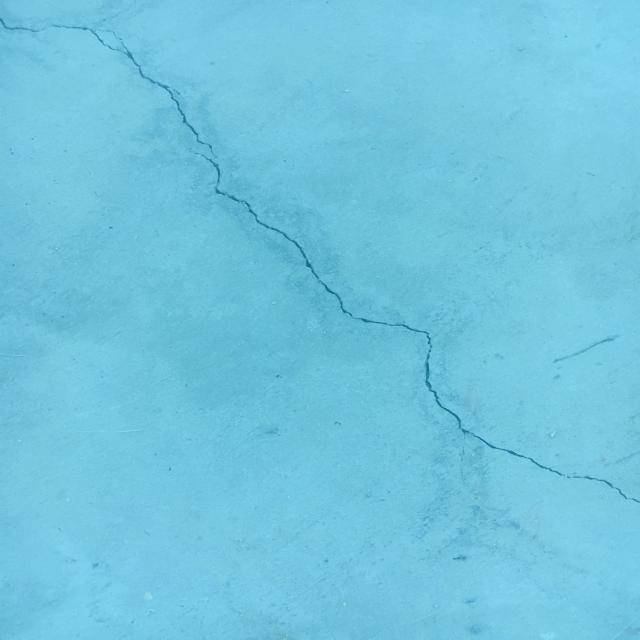crack: (188, 145, 640, 504), (0, 18, 218, 158)
